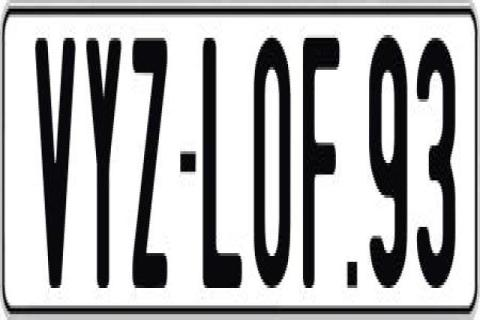0: (366, 29, 412, 291), (253, 32, 295, 294), (416, 35, 459, 285)
F: (303, 29, 341, 282)
L: (200, 35, 246, 288)
V: (34, 38, 78, 297)
Y: (86, 35, 124, 303)
Z: (129, 38, 166, 288)
